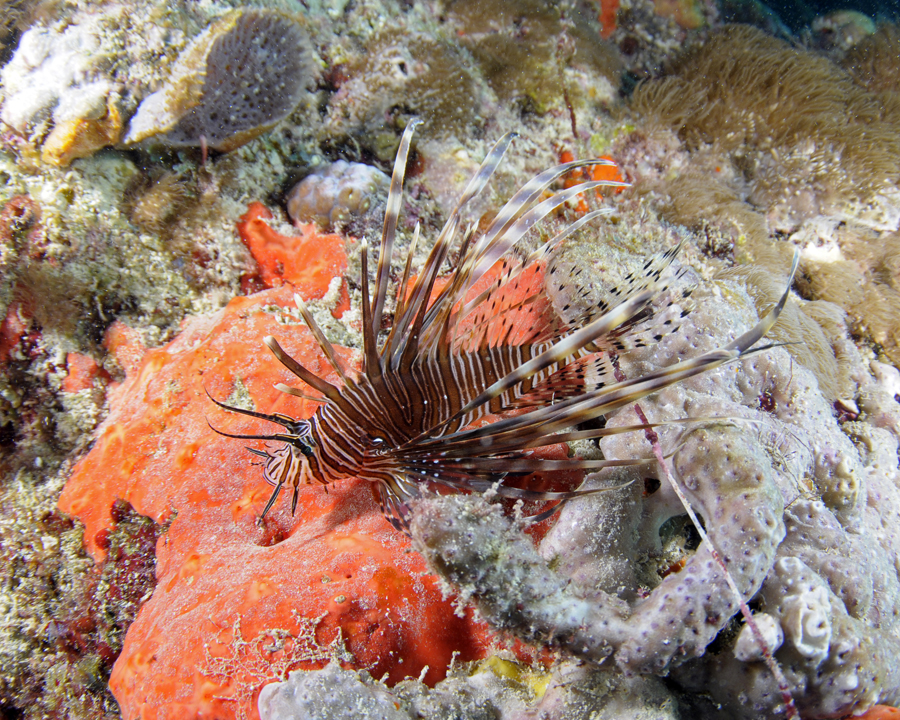Pterois_volitans: (230, 118, 665, 584)
